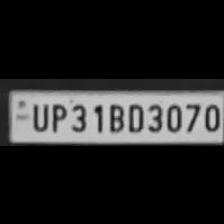0: (199, 99, 221, 130), (162, 100, 182, 132)
1: (89, 101, 105, 133)
3: (66, 100, 88, 132), (145, 100, 163, 132)
7: (182, 100, 200, 132)
B: (104, 100, 124, 132)
D: (124, 100, 144, 132)
P: (47, 100, 67, 132)
U: (28, 99, 48, 130)
